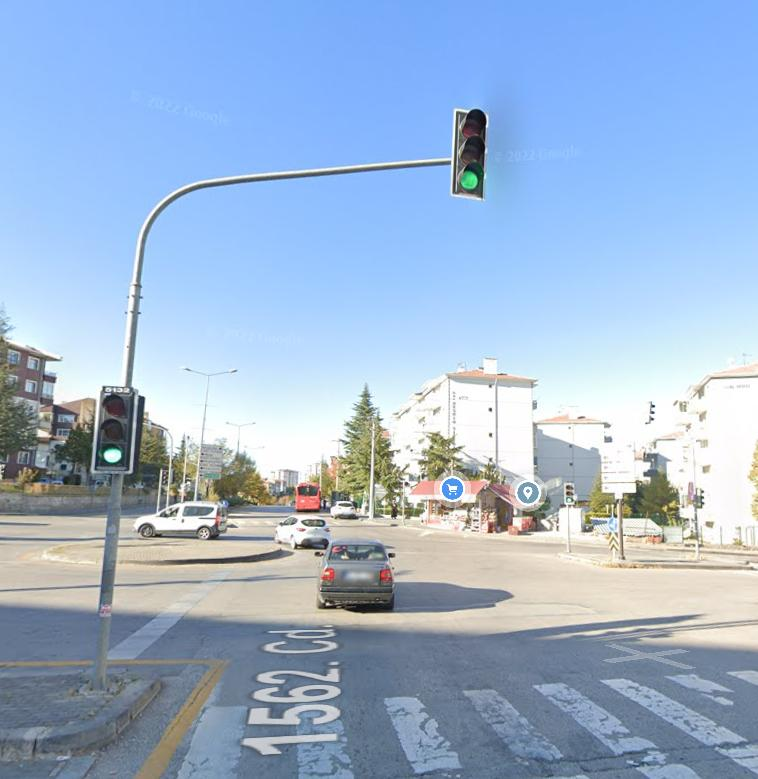greenlight: (98, 384, 131, 470), (457, 108, 485, 196)
